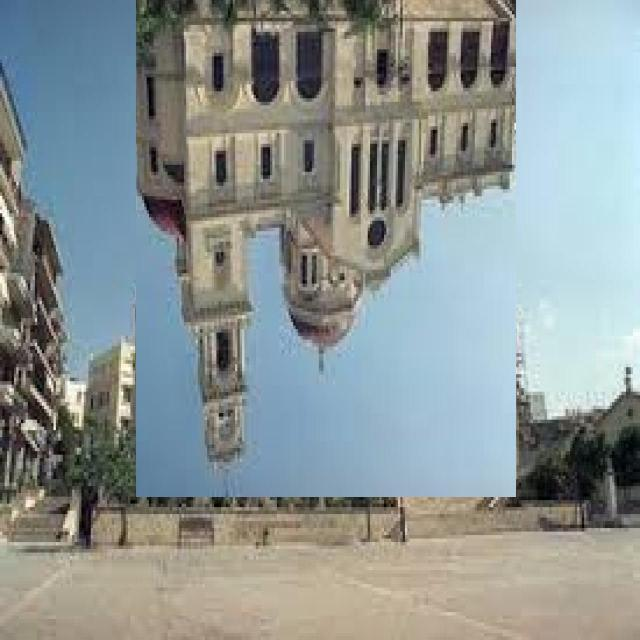Agios Minas: (137, 1, 517, 498)
